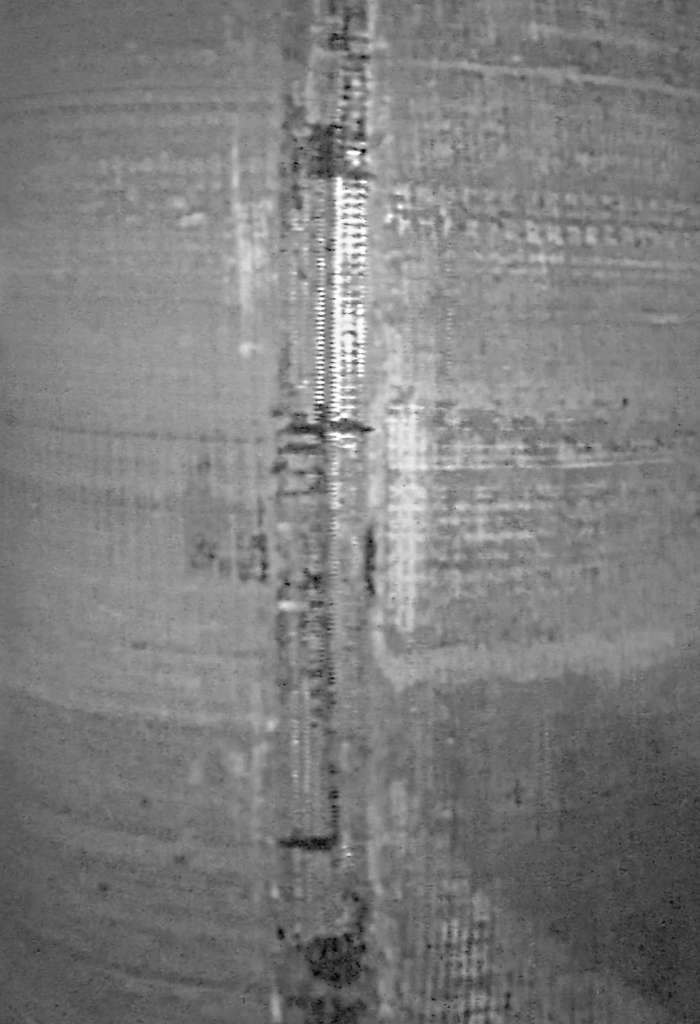splice: (258, 3, 411, 1024)
